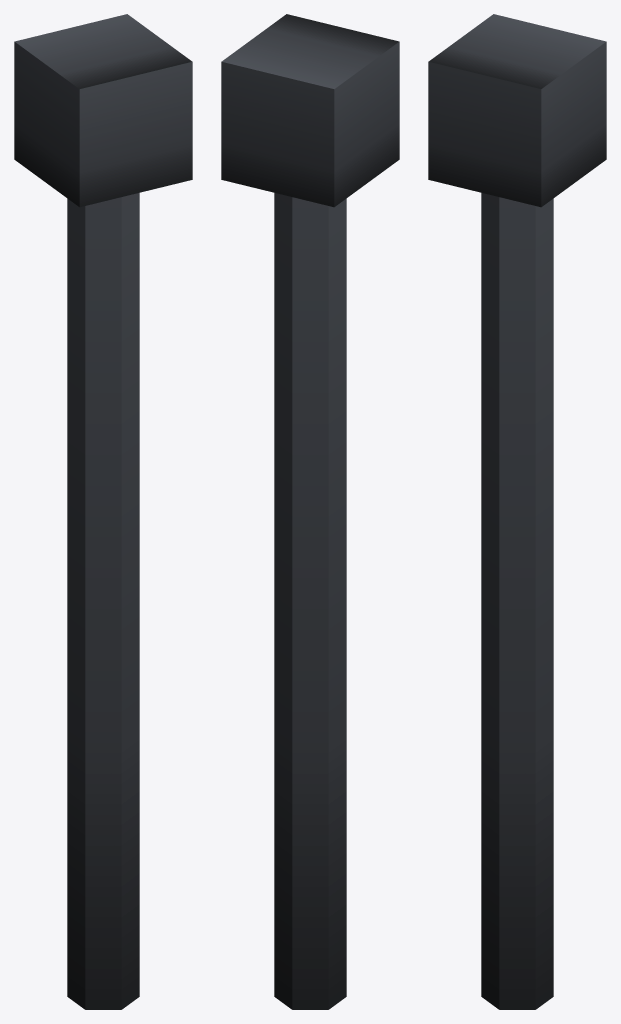
Rendered from lamppost.glb.
The picture shows the model from 3 angles, left to right: view 1: azimuth 30°, elevation 25°; view 2: azimuth 150°, elevation 25°; view 3: azimuth 330°, elevation 25°; orthographic projection.
Parts seen in each view (by area): view 1: lamppost; view 2: lamppost; view 3: lamppost.
Part boxes in pixels (left/top/right/bottom): lamppost: left=14, top=14, right=192, bottom=1009; lamppost: left=221, top=14, right=399, bottom=1009; lamppost: left=428, top=14, right=606, bottom=1009.
Size of the model in its own units: 0.18 by 1.44 by 0.18.
1 material, 1 textured.
